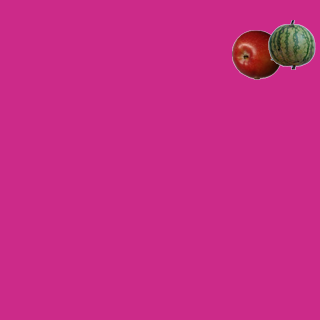Apple Braeburn: (231, 29, 281, 79)
Watermelon: (266, 19, 316, 69)
